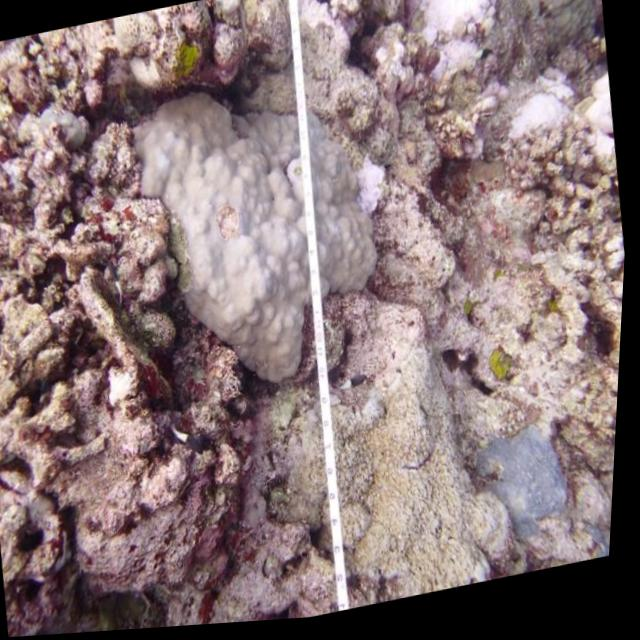Bleached Coral: (114, 58, 400, 419), (491, 65, 625, 212), (388, 0, 538, 116), (98, 342, 153, 433)
